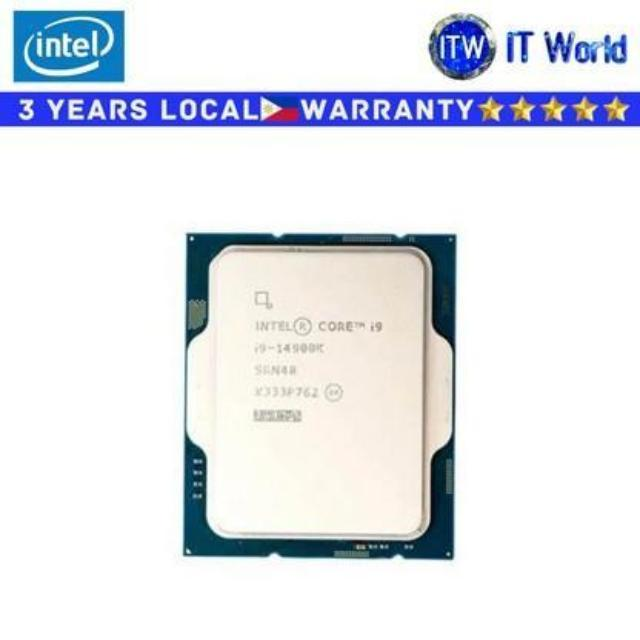CPU: (182, 234, 454, 564)
